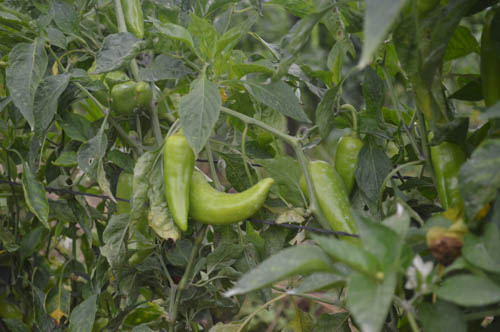ChiliPepper: (189, 168, 273, 231), (309, 161, 364, 244), (426, 131, 461, 222), (165, 137, 196, 230), (328, 137, 367, 195), (113, 173, 146, 227), (108, 81, 138, 109)
